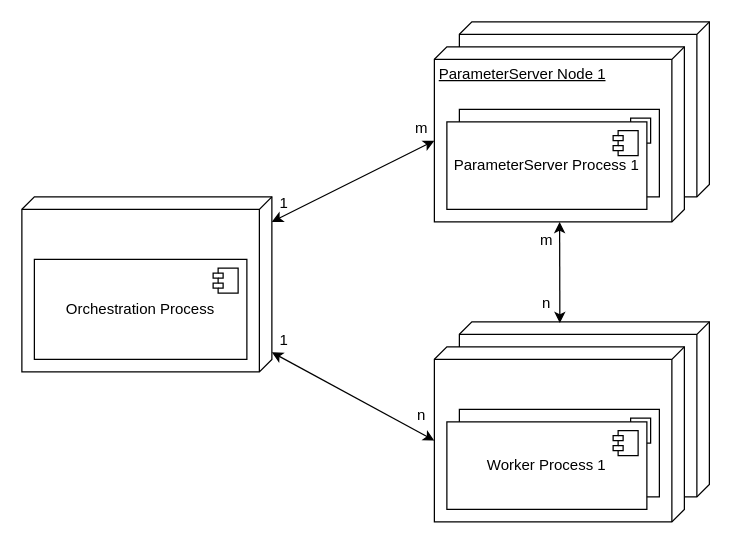
The diagram is 731 pixels wide and 544 high, and some of its shapes have lost their labels. The box of each missing label's shape, as (x1, y1, x2, y2) in pixels:
Orchestrator Node: (21, 196, 272, 372)
Worker Node 1: (433, 346, 684, 522)
